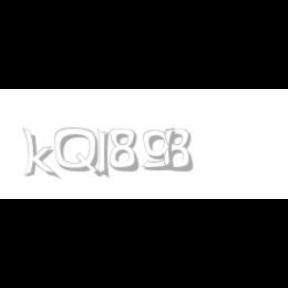8: (110, 128, 138, 172), (164, 128, 192, 172)
Q: (55, 128, 101, 178)
g: (142, 128, 180, 171)
k: (22, 128, 60, 180)
l: (97, 128, 113, 180)
